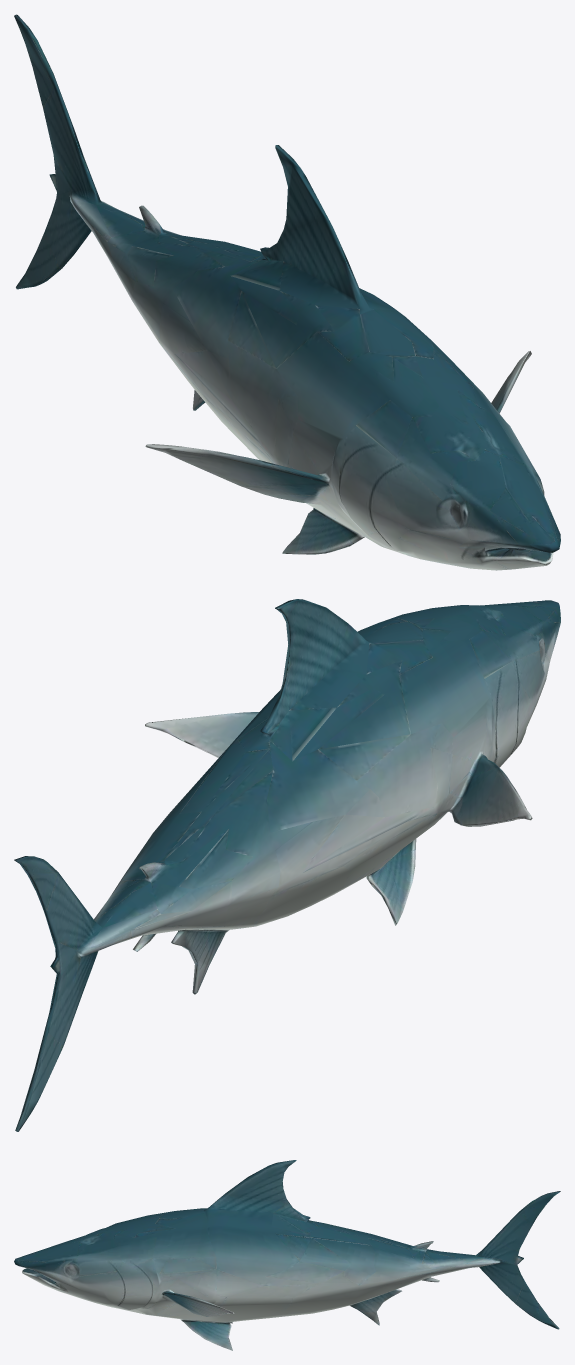
The picture shows the model from 3 angles, top to bottom: view 1: azimuth 30°, elevation 25°; view 2: azimuth 150°, elevation 25°; view 3: azimuth 270°, elevation 25°; orthographic projection. The views are drawn at different scales.
Size of the model in its own units: 0.7826 by 0.6782 by 1.9.
Materials: 1 (1 with a texture image).
